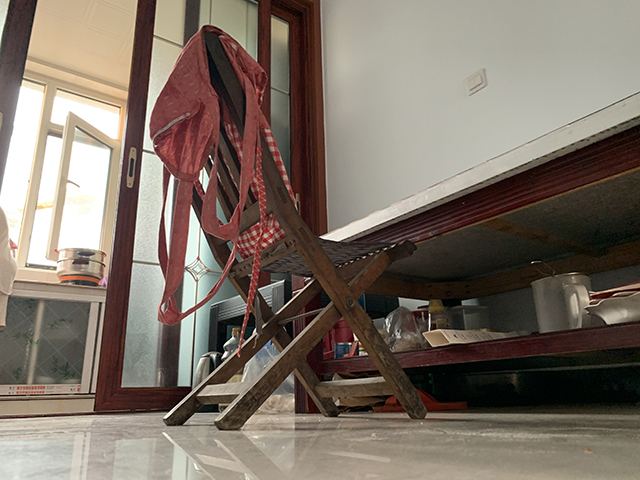cabinet: (1, 277, 109, 418)
slippers: (371, 386, 468, 415)
stool: (155, 29, 430, 433)
table: (290, 89, 640, 416)
